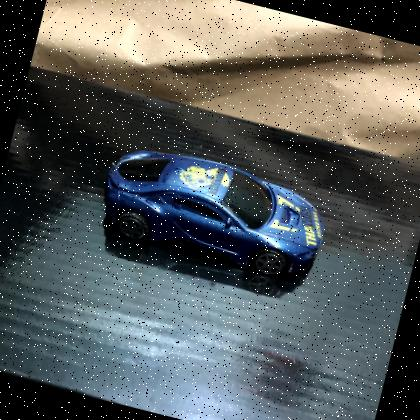Car: (104, 150, 323, 284)
